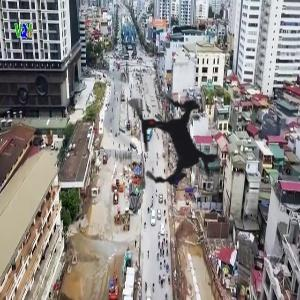drone: (90, 59, 257, 226)
